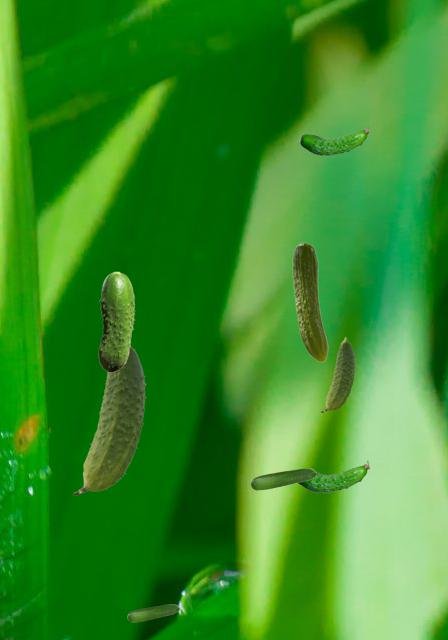cucumber: (73, 347, 145, 494), (292, 242, 327, 361), (98, 271, 134, 371), (321, 337, 354, 411), (298, 460, 368, 492), (299, 125, 368, 155), (250, 468, 315, 489), (127, 604, 178, 621)
